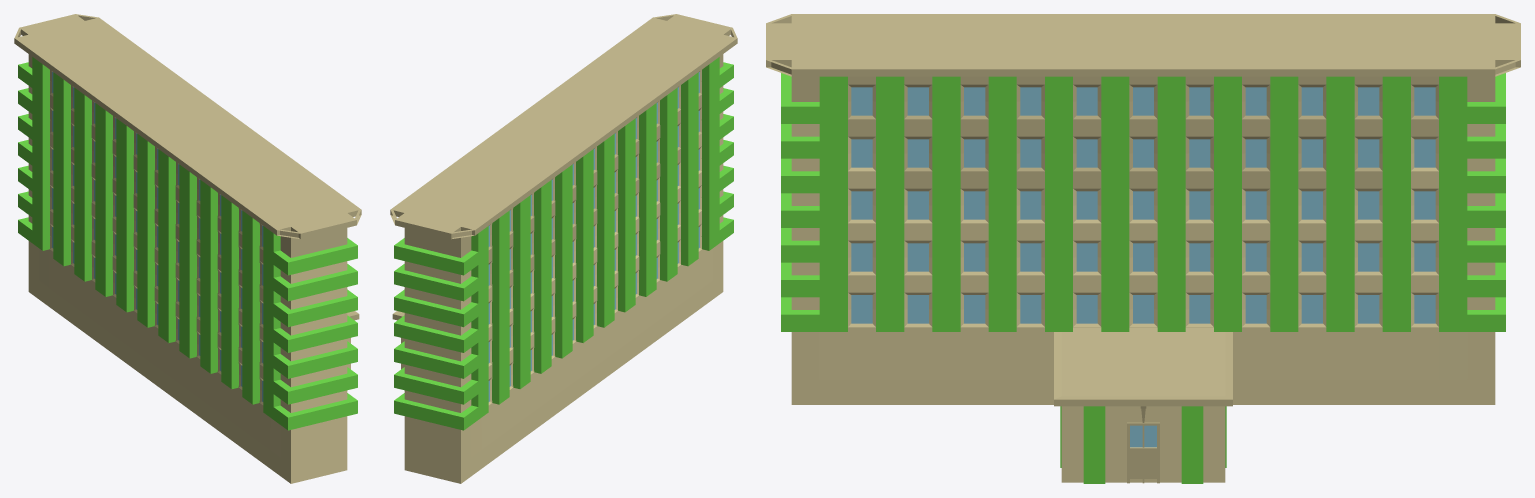
Rendered from Building_000.glb.
3 views of the same model, side by side, from view 1: azimuth 30°, elevation 25°; view 2: azimuth 150°, elevation 25°; view 3: azimuth 270°, elevation 25° (orthographic). The views are drawn at different scales.
Visible parts, largest first — view 1: Cube; view 2: Cube; view 3: Cube, Cube.001.
Part boxes in pixels (box(x1,y1,x2,y2)): Cube: box(14, 14, 361, 483); Cube: box(390, 14, 737, 483); Cube: box(766, 14, 1520, 404); Cube.001: box(1054, 327, 1232, 483).
Size of the model in its own units: 34.44 by 48.21 by 93.08.
